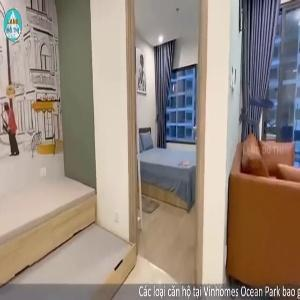drone: (231, 64, 300, 133)
